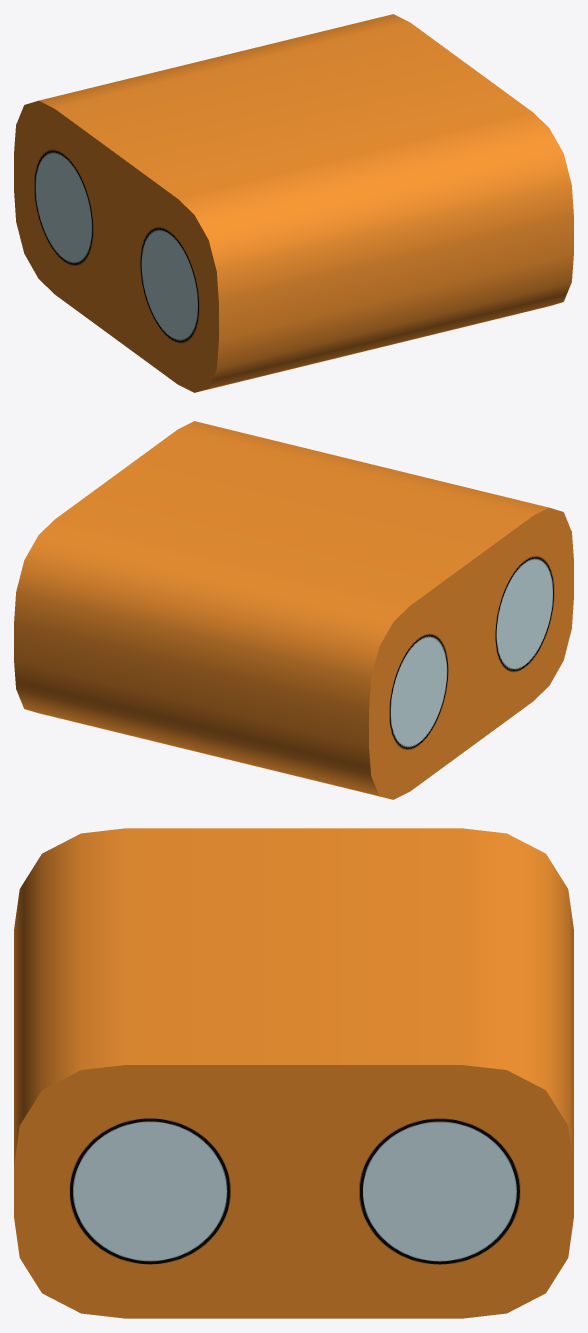
Rendered from obstacle.FBX.
3 views of the same model, one above another, from view 1: azimuth 30°, elevation 25°; view 2: azimuth 150°, elevation 25°; view 3: azimuth 270°, elevation 25° (orthographic). The views are drawn at different scales.
Parts seen in each view (by area): view 1: BlocKILL; view 2: BlocKILL; view 3: BlocKILL.
Boxes of the visible parts, left/top/right/bottom form: BlocKILL: left=14, top=14, right=573, bottom=392; BlocKILL: left=14, top=421, right=573, bottom=799; BlocKILL: left=14, top=828, right=573, bottom=1318.
Size of the model in its own units: 1 by 0.5 by 1.
Materials: 1 (1 with a texture image).
